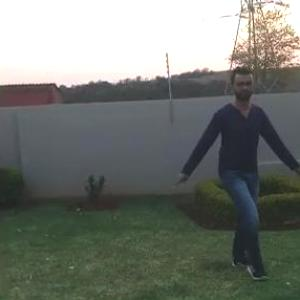land: (171, 64, 294, 270)
